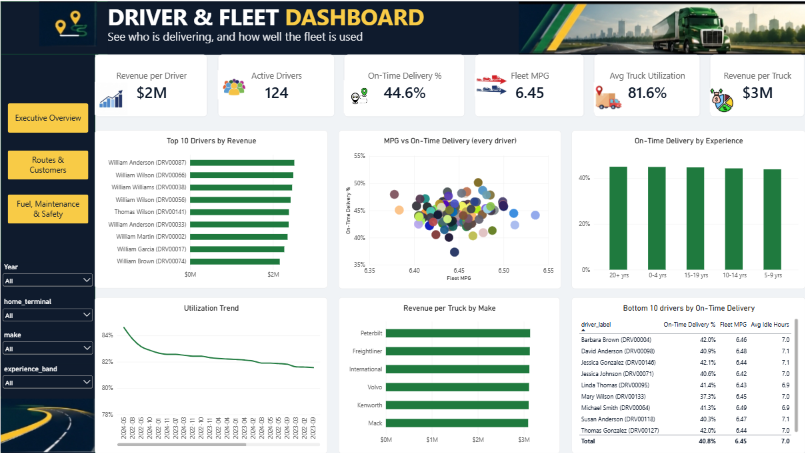

Layout of this report page (visuals, bound fields, positions):
{"tool":"powerbi","page":{"name":"Driver & Fleet","canvas":[1920,1080],"ordinal":1},"visuals":[{"type":"shape","box":[0,0,225.2,1080.9],"z":0},{"type":"shape","box":[0,0,1920.7,126.5],"z":1000},{"type":"textbox","box":[255.2,0,1666.5,127.6],"z":2000},{"type":"slicer","fields":{"Values":["Date.Year"]},"box":[0,622.7,224.3,83.5],"z":3000},{"type":"slicer","fields":{"Values":["Drivers.home_terminal"]},"box":[0,706.2,224.3,76.3],"z":4000},{"type":"slicer","fields":{"Values":["Trucks.make"]},"box":[0,785,225.2,80.1],"z":5000},{"type":"slicer","fields":{"Values":["Drivers.experience_band"]},"box":[0,866.1,224.3,76.3],"z":6000},{"type":"cardVisual","fields":{"Data":["_Measures.Active Drivers"]},"box":[517,127.6,280.2,150.1],"z":7000},{"type":"cardVisual","fields":{"Data":["_Measures.Revenue per Driver"]},"box":[225.2,127.6,270.2,150.1],"z":8000},{"type":"cardVisual","fields":{"Data":["_Measures.On-Time Delivery %"]},"box":[818.7,127.6,290.3,150.1],"z":9000},{"type":"cardVisual","fields":{"Data":["_Measures.Fleet MPG"]},"box":[1130.5,127.6,262.7,150.1],"z":10000},{"type":"cardVisual","fields":{"Data":["_Measures.Avg Truck Utilization"]},"box":[1414.7,127.6,255.2,150.1],"z":11000},{"type":"cardVisual","fields":{"Data":["_Measures.Revenue per Truck"]},"box":[1691.5,127.6,227.7,150.1],"z":12000},{"type":"barChart","title":"Top 10 Drivers by Revenue","fields":{"Category":["Drivers.driver_label"],"Y":["_Measures.Total Revenue"]},"box":[224.3,307.8,555.9,377],"z":13000},{"type":"scatterChart","title":"MPG vs On-Time Delivery (every driver)","fields":{"Category":["Drivers.driver_label"],"Size":["_Measures.Total Miles"],"X":["_Measures.Fleet MPG"],"Y":["_Measures.On-Time Delivery %"]},"box":[805.5,307.8,530.5,377.8],"z":14000},{"type":"clusteredColumnChart","title":"On-Time Delivery by Experience","fields":{"Category":["Drivers.experience_band"],"Y":["_Measures.On-Time Delivery %"]},"box":[1361.2,307.8,558,377.8],"z":15000},{"type":"lineChart","title":"Utilization Trend","fields":{"Category":["Date.Year-Month"],"Y":["_Measures.Avg Truck Utilization"]},"box":[225.2,707.2,555.5,372.8],"z":16000},{"type":"barChart","title":"Revenue per Truck by Make","fields":{"Category":["Trucks.make"],"Y":["_Measures.Revenue per Truck"]},"box":[807,707.2,528,372.8],"z":17000},{"type":"tableEx","title":"Bottom 10 drivers by On-Time Delivery","fields":{"Values":["Drivers.driver_label","_Measures.On-Time Delivery %","_Measures.Fleet MPG","_Measures.Avg Idle Hours"]},"box":[1361.2,707.2,558,372.8],"z":18000},{"type":"actionButton","box":[16.7,243.4,192.7,70.1],"z":19000},{"type":"actionButton","box":[16.7,355.5,192.7,70.1],"z":20000},{"type":"actionButton","box":[16.7,460.5,192.7,70.1],"z":21000},{"type":"textbox","box":[255.2,65.1,733.1,62.6],"z":22000},{"type":"image","box":[0,0,322.1,107.4],"z":23000},{"type":"image","box":[0,942.4,224.3,138.4],"z":24000},{"type":"image","box":[1235.2,0,684.8,126.5],"z":25000},{"type":"image","box":[224.3,186.1,78.7,90.7],"z":25001},{"type":"image","box":[1130.9,126.5,81.1,145.5],"z":25002},{"type":"image","box":[818.4,183.7,78.7,88.3],"z":25003},{"type":"image","box":[1414.8,186.1,71.6,85.9],"z":25004},{"type":"image","box":[1691.6,193.3,57.3,85.9],"z":25005},{"type":"image","box":[517.7,126.5,78.7,145.5],"z":25006}]}

Visuals, with their boxes in screenshot pixels (x1, y1, x2, y2), scaled from the page's 1920x1080 canvas onto the 805x453 screenshot:
shape: <box>0,0,94,452</box>
shape: <box>0,0,804,53</box>
textbox: <box>107,0,804,54</box>
slicer - Date.Year: <box>0,261,94,296</box>
slicer - Drivers.home_terminal: <box>0,296,94,328</box>
slicer - Trucks.make: <box>0,329,94,363</box>
slicer - Drivers.experience_band: <box>0,363,94,395</box>
cardVisual - _Measures.Active Drivers: <box>217,54,334,116</box>
cardVisual - _Measures.Revenue per Driver: <box>94,54,208,116</box>
cardVisual - _Measures.On-Time Delivery %: <box>343,54,465,116</box>
cardVisual - _Measures.Fleet MPG: <box>474,54,584,116</box>
cardVisual - _Measures.Avg Truck Utilization: <box>593,54,700,116</box>
cardVisual - _Measures.Revenue per Truck: <box>709,54,804,116</box>
"Top 10 Drivers by Revenue" barChart: <box>94,129,327,287</box>
"MPG vs On-Time Delivery (every driver)" scatterChart: <box>338,129,560,288</box>
"On-Time Delivery by Experience" clusteredColumnChart: <box>571,129,804,288</box>
"Utilization Trend" lineChart: <box>94,297,327,452</box>
"Revenue per Truck by Make" barChart: <box>338,297,560,452</box>
"Bottom 10 drivers by On-Time Delivery" tableEx: <box>571,297,804,452</box>
actionButton: <box>7,102,88,131</box>
actionButton: <box>7,149,88,179</box>
actionButton: <box>7,193,88,223</box>
textbox: <box>107,27,414,54</box>
image: <box>0,0,135,45</box>
image: <box>0,395,94,452</box>
image: <box>518,0,804,53</box>
image: <box>94,78,127,116</box>
image: <box>474,53,508,114</box>
image: <box>343,77,376,114</box>
image: <box>593,78,623,114</box>
image: <box>709,81,733,117</box>
image: <box>217,53,250,114</box>
